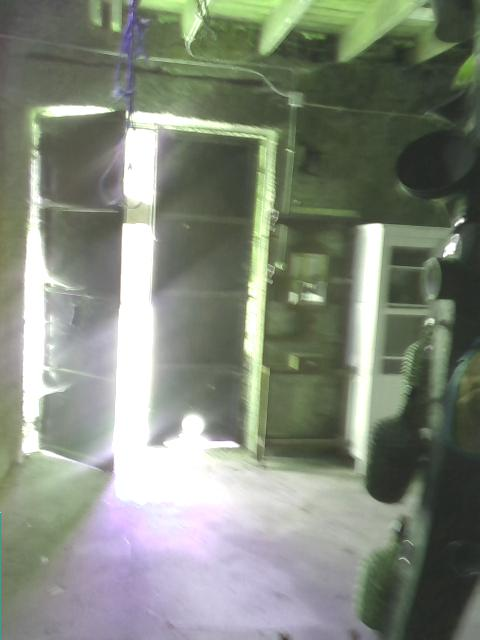semi_door: (32, 104, 159, 474)
